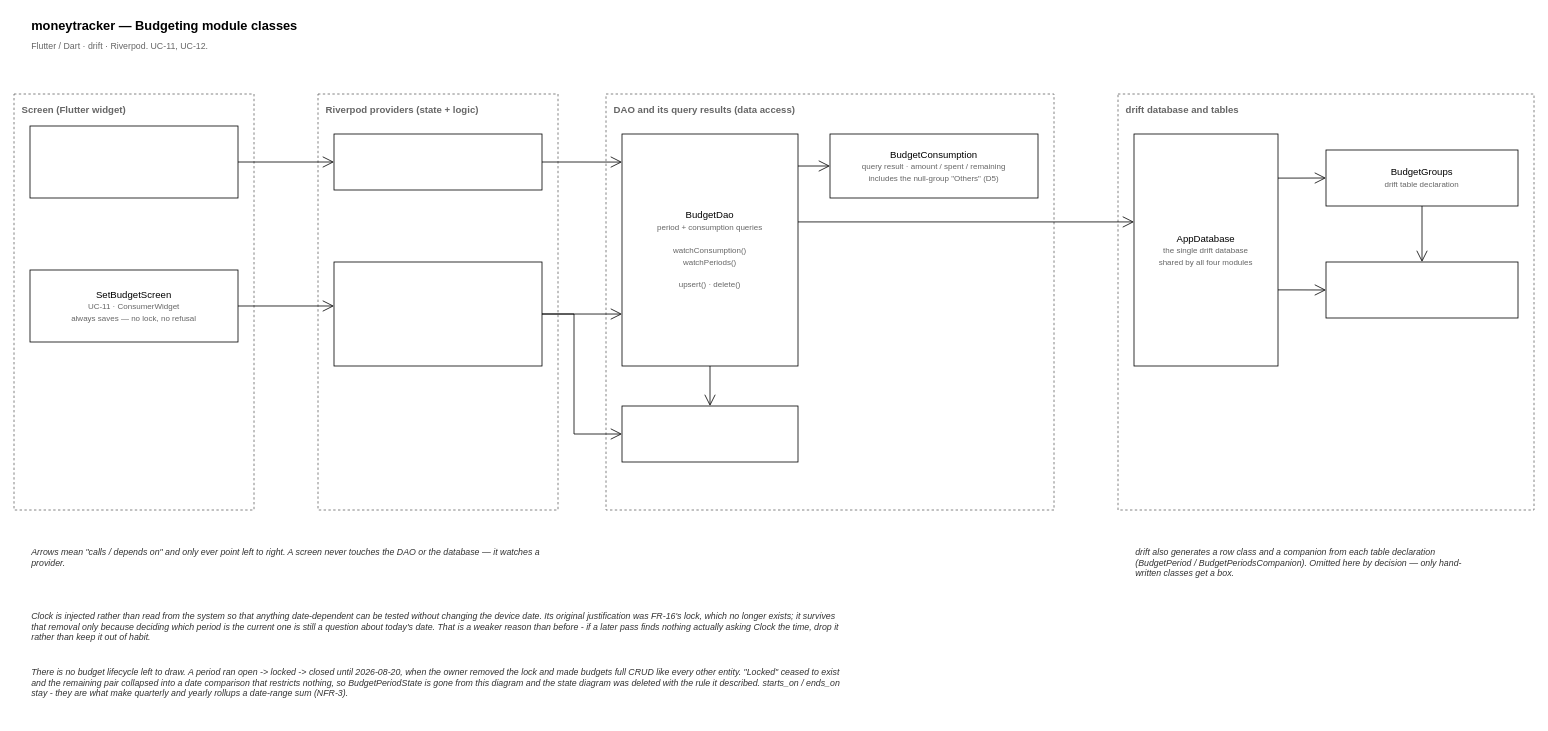
The diagram is 1548 pixels wide and 731 high, and some of its shapes have lost their labels. Each missing label, with the centre of its shape:
budgetConsumptionProvider StreamProvider · UC-12: (437,161)
BudgetNotifier Notifier, exposed as budgetProvider setAmount() delete(): (437,313)
BudgetOverviewScreen UC-12 · ConsumerWidget spent vs budget, per group: (133,161)
BudgetPeriods drift table declaration starts_on / ends_on / amount: (1421,289)
Clock injected time source: (709,433)
